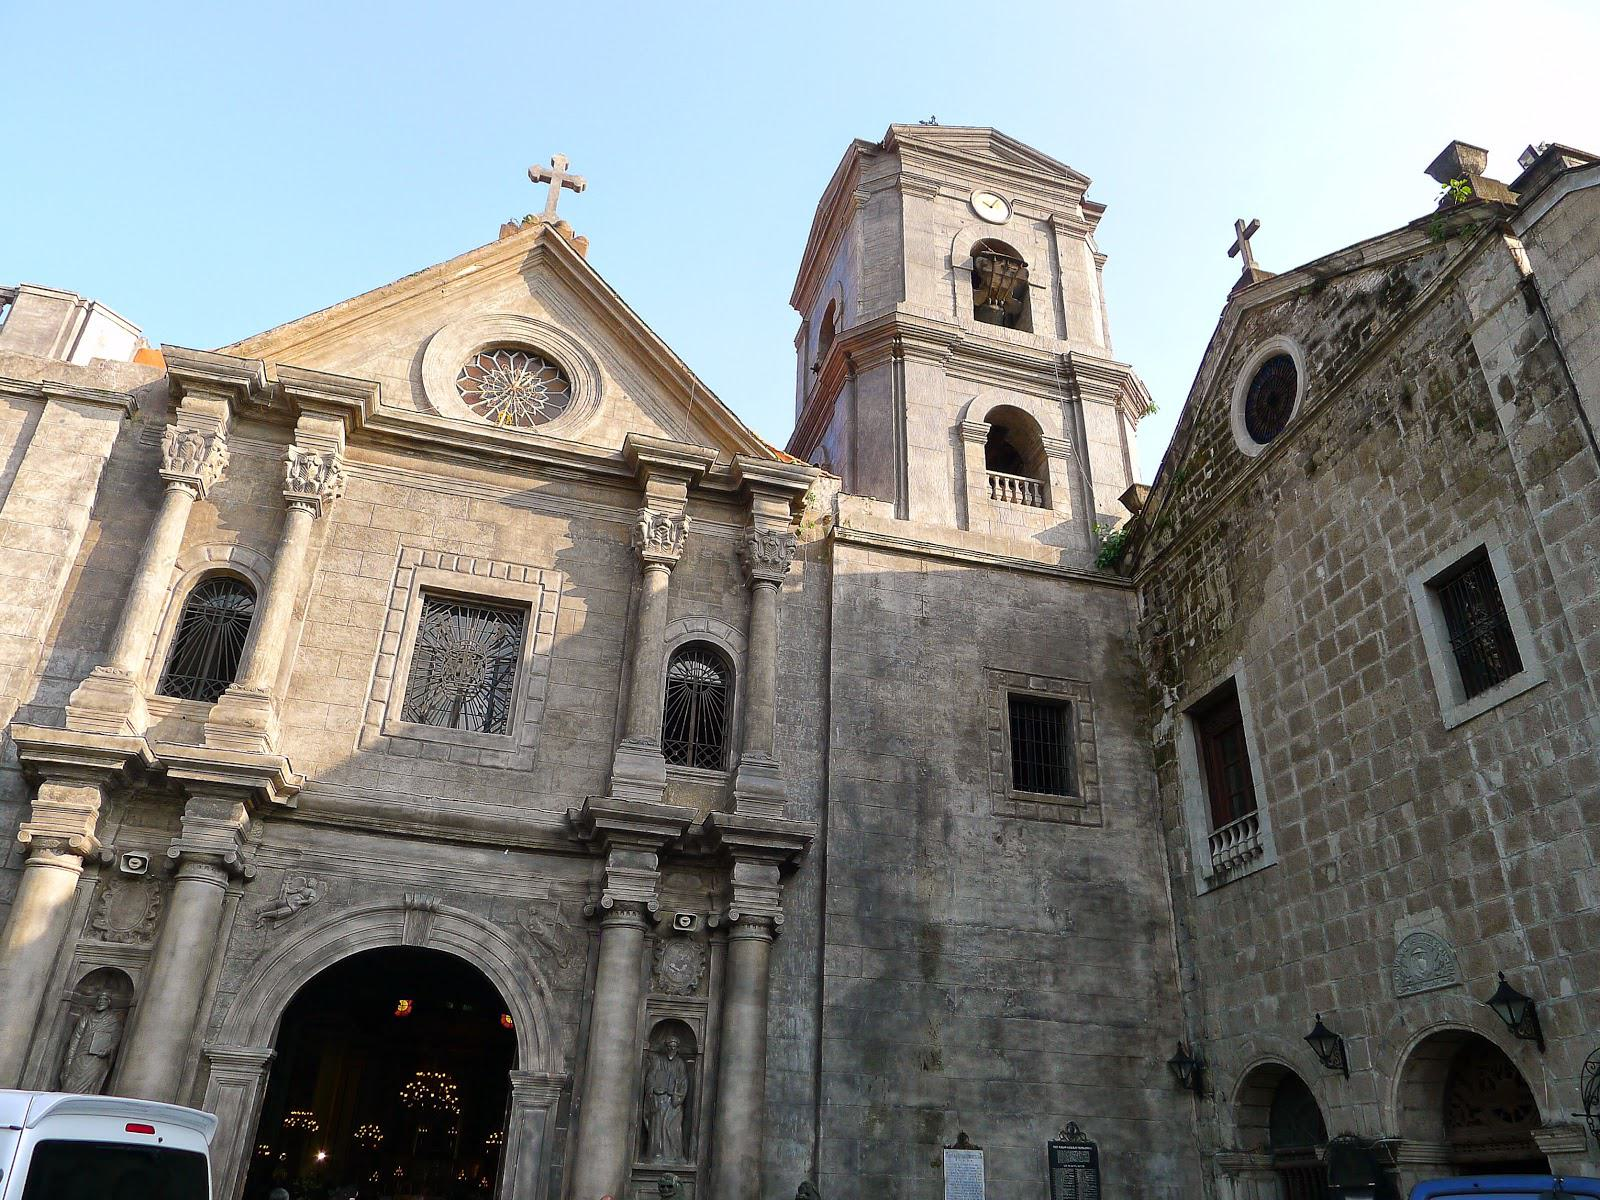Crack: (1138, 671, 1184, 756)
Environmental Damage: (1419, 176, 1487, 245), (1086, 517, 1134, 586)
San Agustin Church: (81, 81, 1199, 1200)
